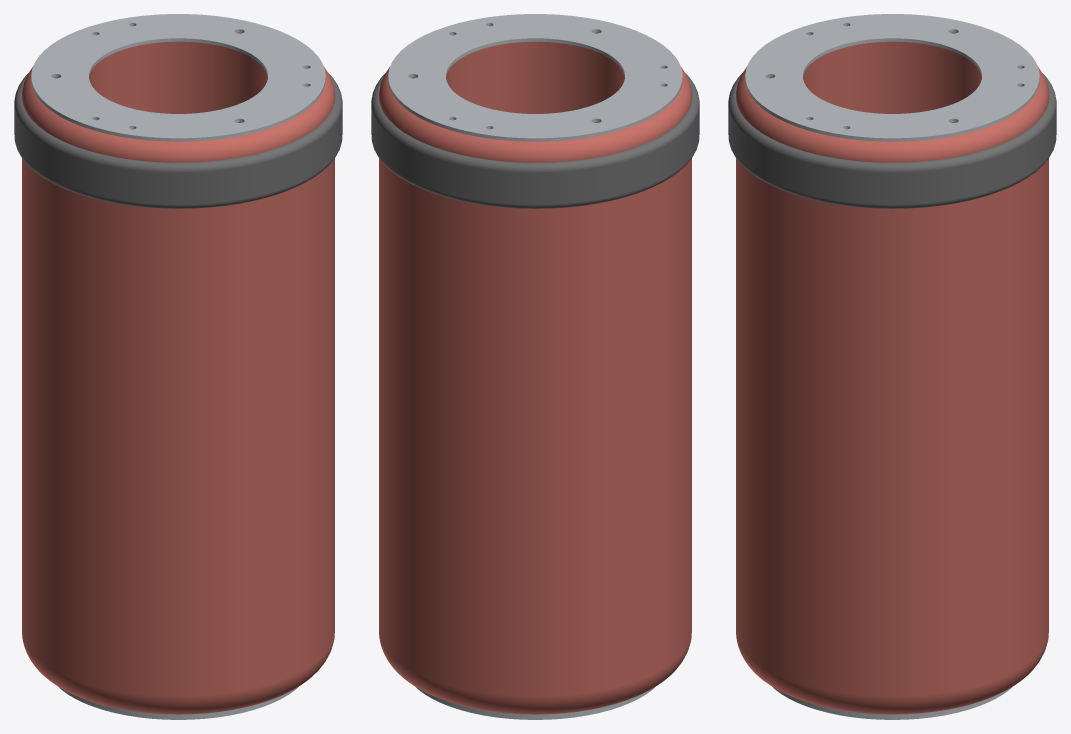
File: step_03.glb
3 views of the same model, side by side, from view 1: azimuth 30°, elevation 25°; view 2: azimuth 150°, elevation 25°; view 3: azimuth 270°, elevation 25° (orthographic).
Parts seen in each view (by area): view 1: part__float hull, part__deck plate, part__fender ring, part__keel plate; view 2: part__float hull, part__deck plate, part__fender ring, part__keel plate; view 3: part__float hull, part__deck plate, part__fender ring, part__keel plate.
Part boxes in pixels (x1,y1,x2,y2): part__float hull: [22, 32, 334, 714]; part__deck plate: [31, 14, 325, 141]; part__fender ring: [14, 73, 342, 208]; part__keel plate: [59, 687, 297, 719]; part__float hull: [379, 32, 691, 714]; part__deck plate: [388, 14, 682, 141]; part__fender ring: [371, 73, 699, 208]; part__keel plate: [416, 687, 654, 719]; part__float hull: [736, 32, 1048, 714]; part__deck plate: [745, 14, 1039, 141]; part__fender ring: [728, 73, 1056, 208]; part__keel plate: [773, 687, 1011, 719].
Bounding box in the file's own units: 524 × 1036 × 524.
